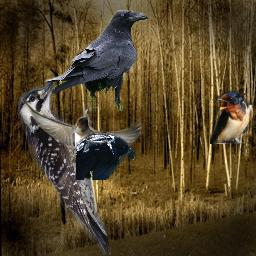Crow: (44, 10, 148, 111), (76, 134, 136, 180)
Swallow: (20, 97, 144, 171), (210, 90, 254, 144)
Woodpecker: (18, 78, 111, 255)
